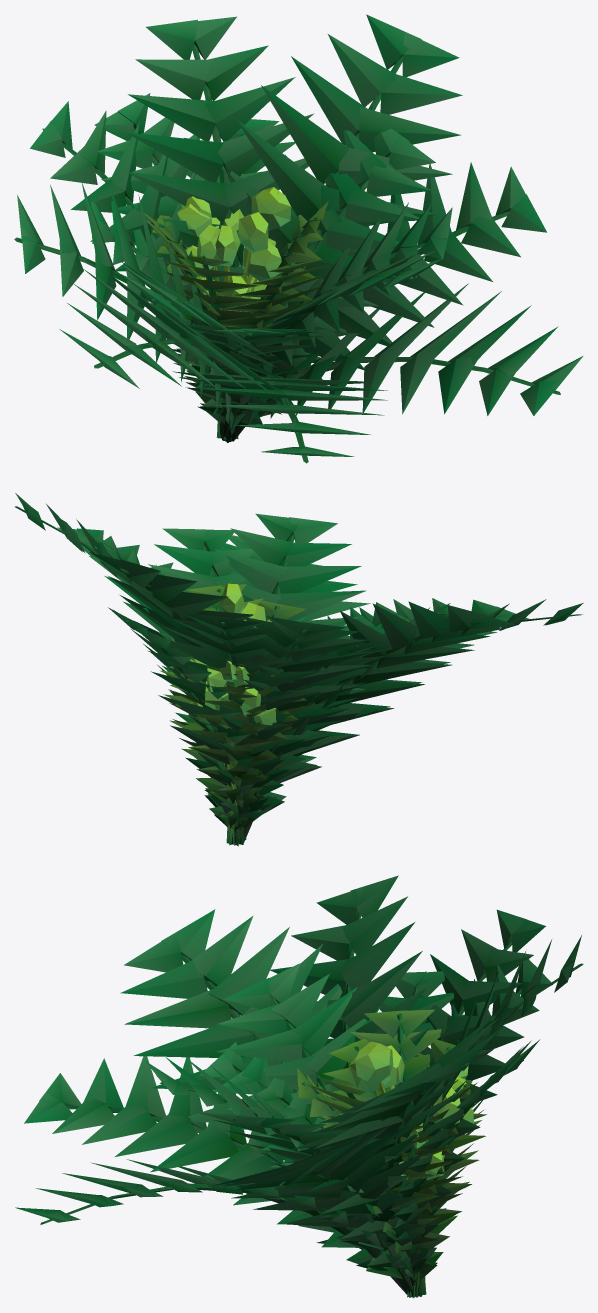
The model's file is vegetasi_fern_emerald_971550.glb.
The picture shows the model from 3 angles, top to bottom: view 1: azimuth 30°, elevation 25°; view 2: azimuth 150°, elevation 25°; view 3: azimuth 270°, elevation 25°; orthographic projection. The views are drawn at different scales.
Visible parts, largest first — view 1: Pakis_Tropis_Sungai; view 2: Pakis_Tropis_Sungai; view 3: Pakis_Tropis_Sungai.
Boxes of the visible parts, x1,y1,x2,y2 form: Pakis_Tropis_Sungai: [14, 14, 583, 463]; Pakis_Tropis_Sungai: [14, 493, 583, 846]; Pakis_Tropis_Sungai: [15, 875, 583, 1298].
Bounding box in the file's own units: 2.74 × 1.83 × 2.61.
